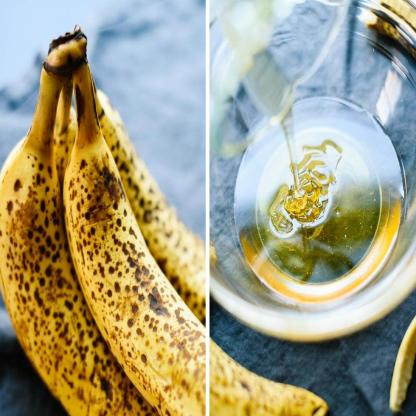banana: (64, 129, 324, 416), (1, 129, 164, 416)
